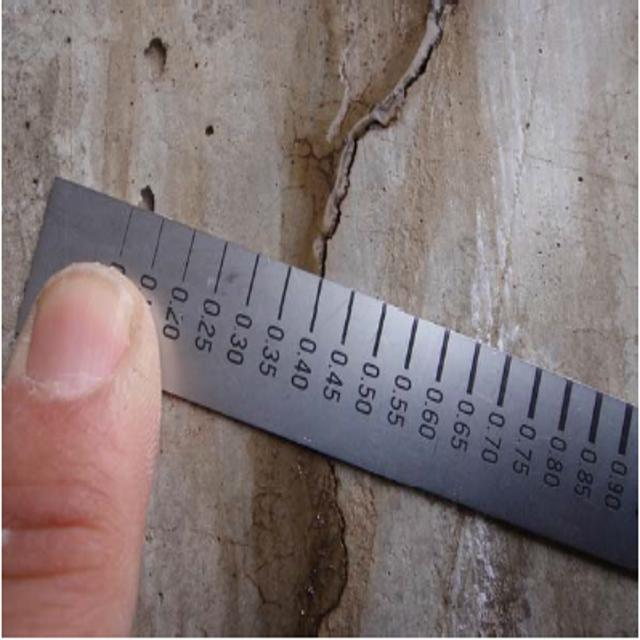crack: (270, 9, 457, 280), (260, 461, 361, 636)
